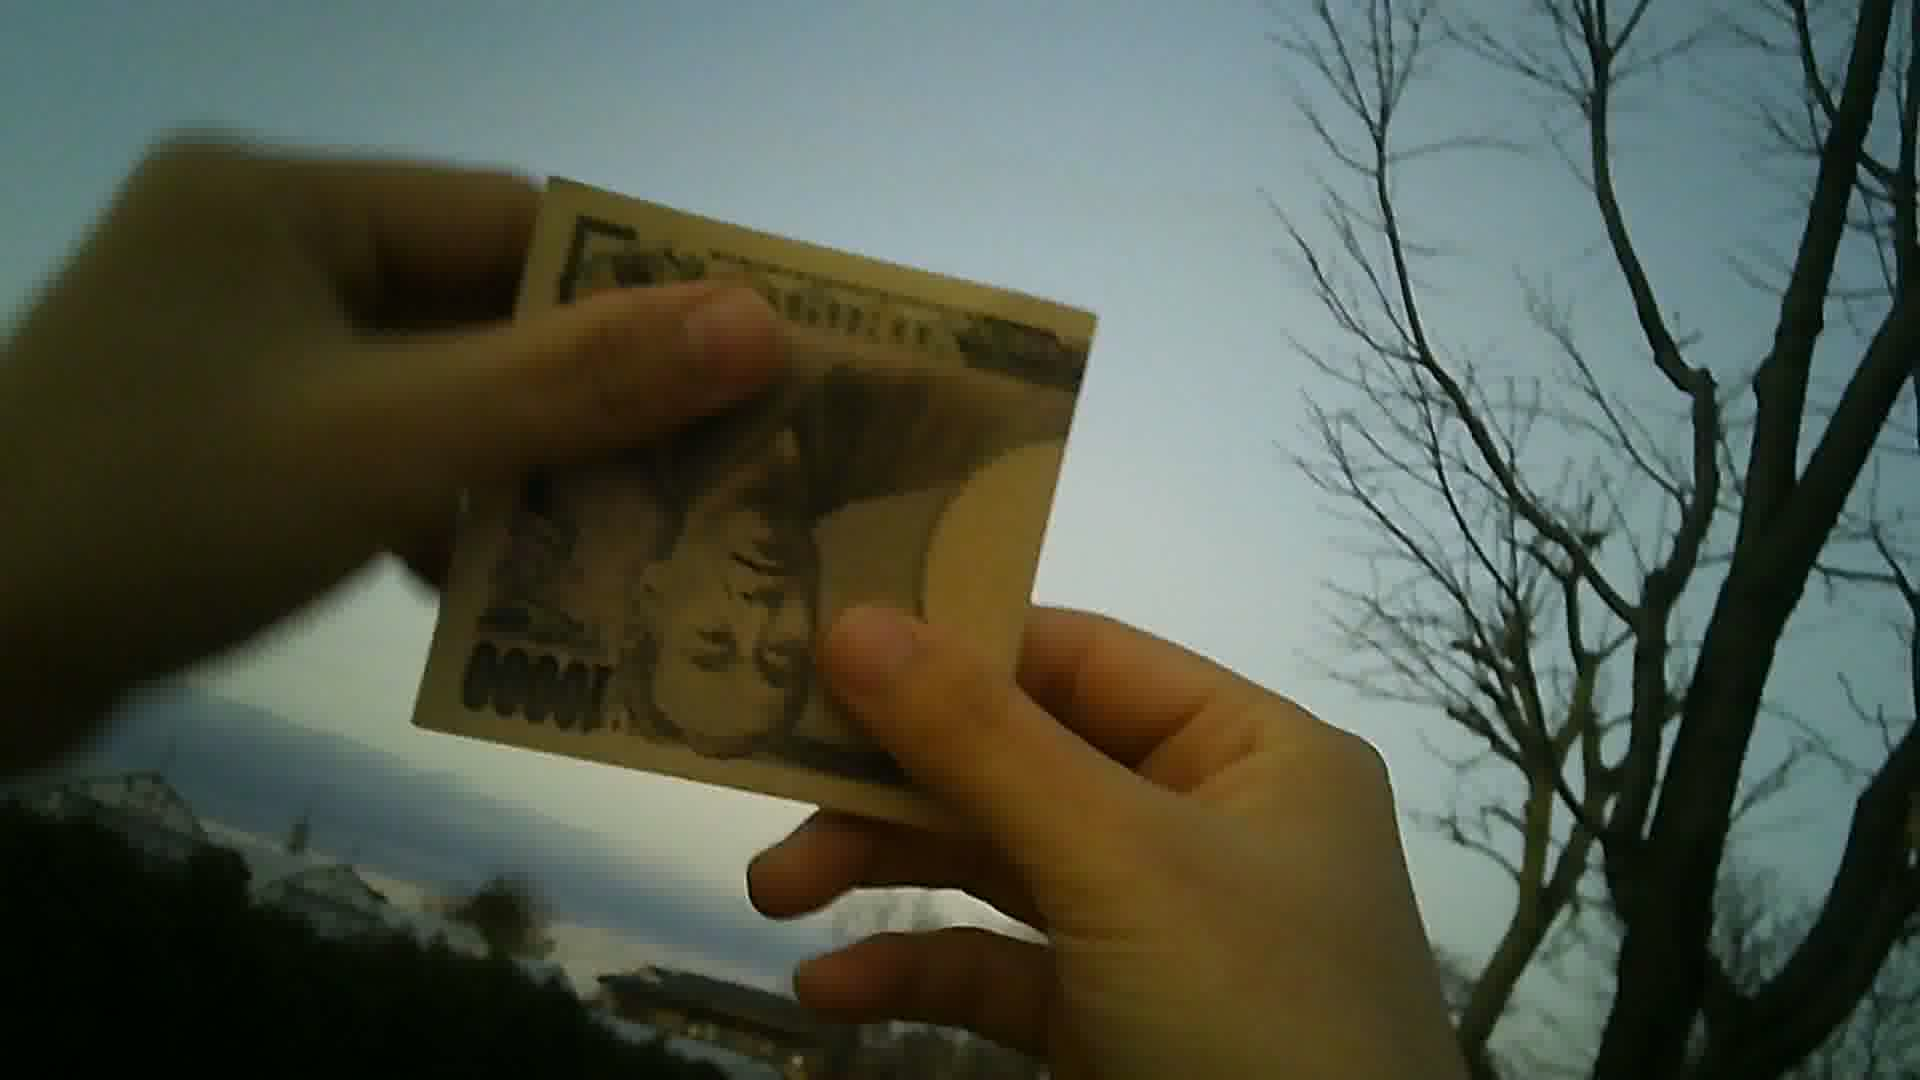10,000 Yen: (419, 160, 1101, 860)
